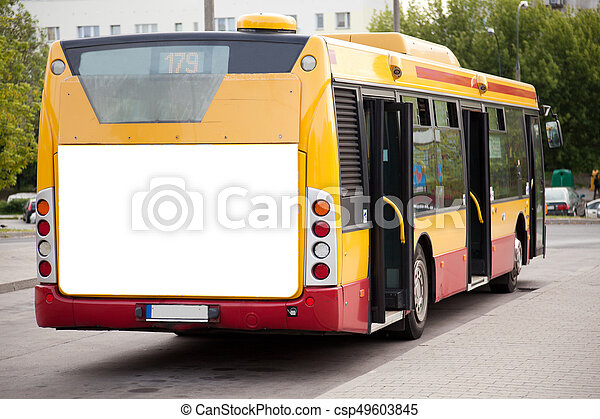bus: (31, 20, 564, 332)
